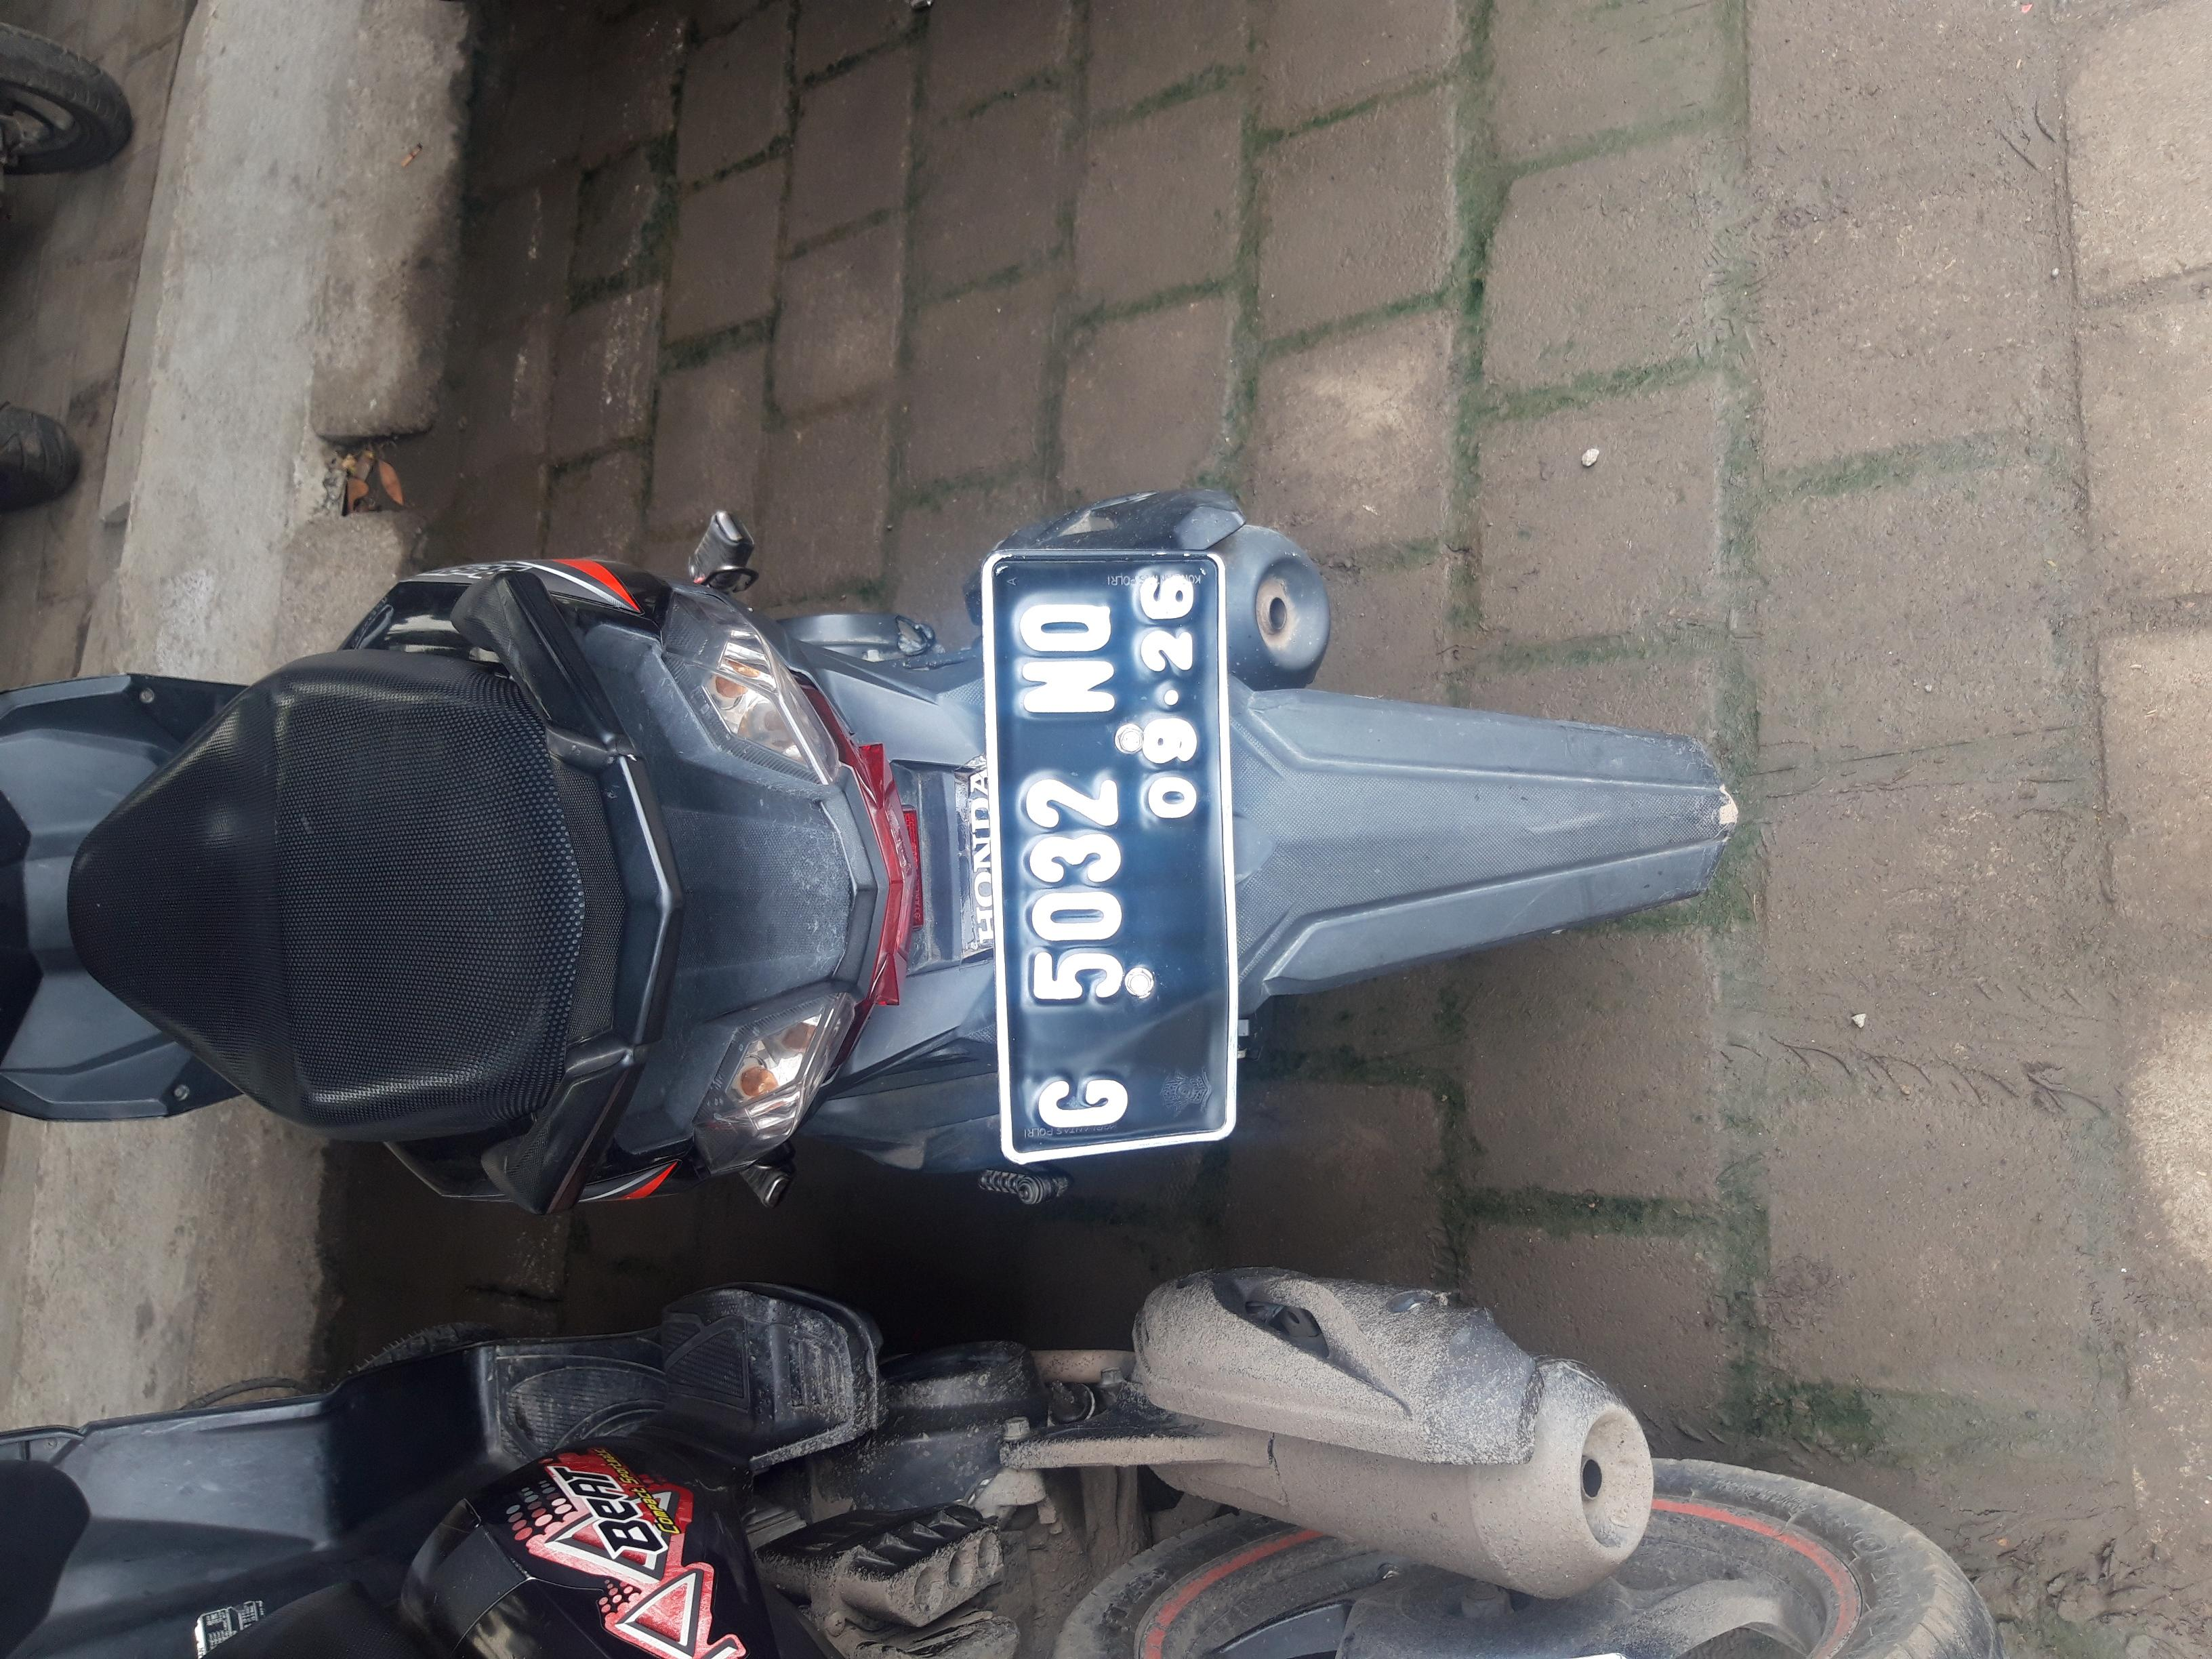plat: (662, 739, 1480, 927)
